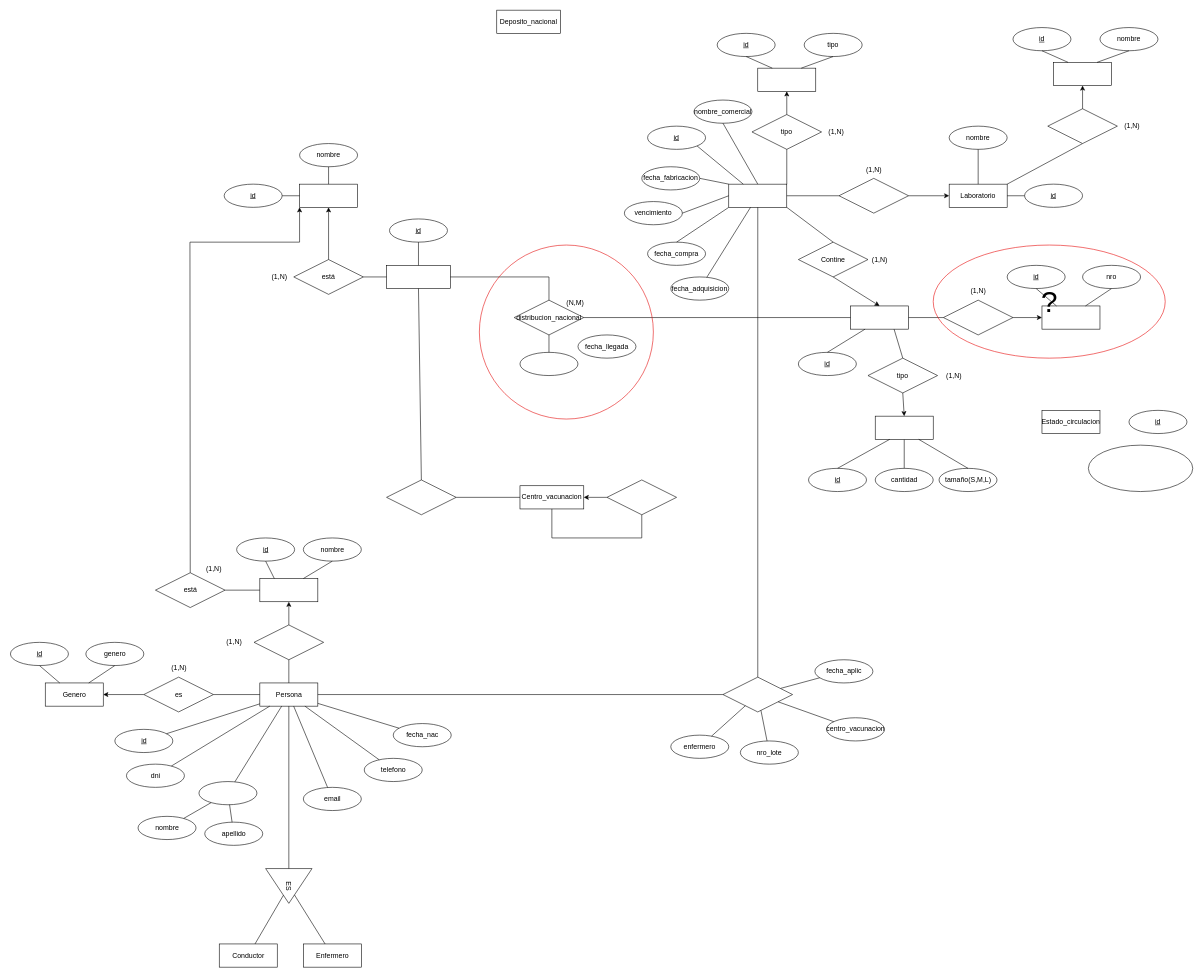
The diagram is 1203 pixels wide and 977 high, and some of its shapes have lost their labels. The shapes that lost their labels are listed below. From the top down, each one's centre as x and y in pixels, then its label:
the point at 786,79: Tipo_Vacuna
the point at 1082,74: Pais
the point at 1082,126: es de
the point at 328,195: Provincia
the point at 757,195: Vacuna
the point at 873,195: fabrica
the point at 418,277: Deposito_provincial
the point at 879,317: Caja
the point at 978,317: tiene
the point at 1070,317: Lote
the point at 548,364: fecha_salida
the point at 904,427: Tamaño_caja
the point at 1140,468: estado(viaje, en deposito nac, dep prov, centro vac)
the point at 421,497: distribucion_provincial
the point at 641,497: redistribuye
the point at 288,590: Localidad
the point at 288,642: vive
the point at 757,694: Aplicacion
the point at 227,793: nombre_completo
